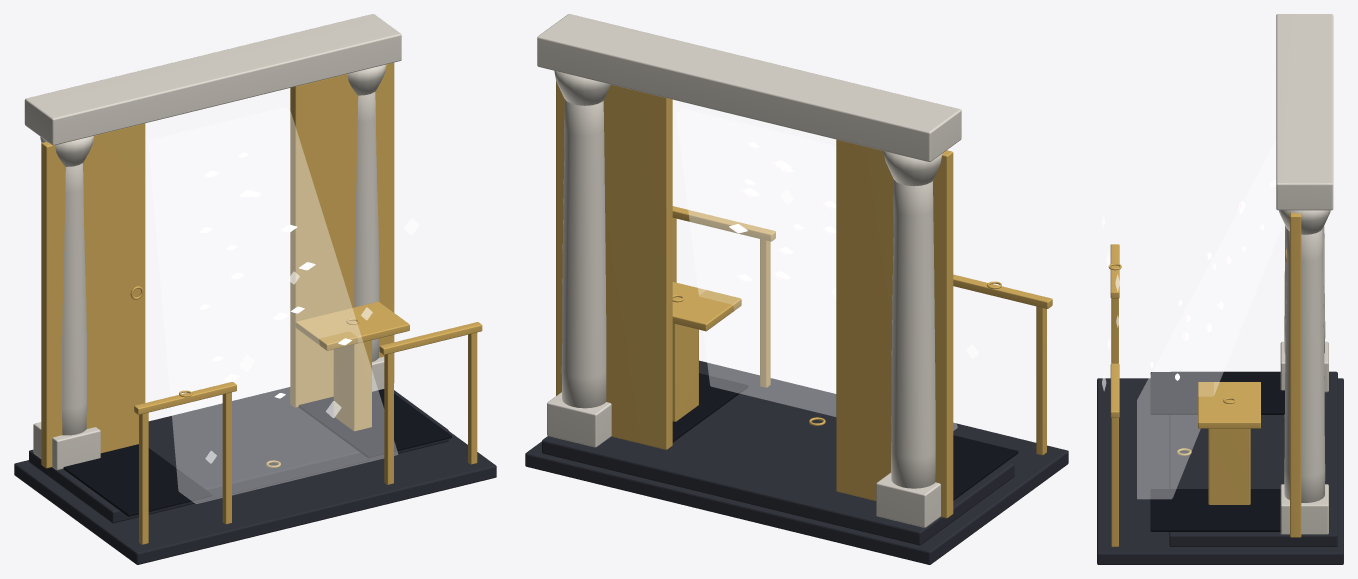
The model's file is webtoon-bokeh-rofan-petal-cascade-f28-v22.glb.
The picture shows the model from 3 angles, left to right: view 1: azimuth 30°, elevation 25°; view 2: azimuth 150°, elevation 25°; view 3: azimuth 270°, elevation 25°; orthographic projection. The views are drawn at different scales.
Visible parts, largest first — view 1: Volumetric_V22Beat2_F28_GodRaySlit, Articulated_V22Beat2_F28_DoorsAndIkRig, V22Beat2_F28_PortalColonnade, V22Beat2_F28_DatumDeck, ShadowDrift_V22Beat2_F28_UmbraMask, Atmospheric_V22Beat2_F28_MidMotes, Atmospheric_V22Beat2_F28_FgBokehLayer; view 2: Articulated_V22Beat2_F28_DoorsAndIkRig, V22Beat2_F28_PortalColonnade, Volumetric_V22Beat2_F28_GodRaySlit, V22Beat2_F28_DatumDeck, ShadowDrift_V22Beat2_F28_UmbraMask, Atmospheric_V22Beat2_F28_MidMotes; view 3: V22Beat2_F28_DatumDeck, V22Beat2_F28_PortalColonnade, Volumetric_V22Beat2_F28_GodRaySlit, Articulated_V22Beat2_F28_DoorsAndIkRig, ShadowDrift_V22Beat2_F28_UmbraMask, Atmospheric_V22Beat2_F28_MidMotes.
Part boxes in pixels (x1,y1,x2,y2): Volumetric_V22Beat2_F28_GodRaySlit: (148, 107, 397, 503); Articulated_V22Beat2_F28_DoorsAndIkRig: (41, 62, 482, 544); V22Beat2_F28_PortalColonnade: (24, 14, 401, 470); V22Beat2_F28_DatumDeck: (14, 387, 496, 564); ShadowDrift_V22Beat2_F28_UmbraMask: (63, 389, 451, 516); Atmospheric_V22Beat2_F28_MidMotes: (199, 152, 351, 398); Atmospheric_V22Beat2_F28_FgBokehLayer: (205, 218, 419, 463); Articulated_V22Beat2_F28_DoorsAndIkRig: (556, 81, 1052, 518); V22Beat2_F28_PortalColonnade: (537, 14, 961, 527); Volumetric_V22Beat2_F28_GodRaySlit: (676, 109, 957, 430); V22Beat2_F28_DatumDeck: (525, 360, 1068, 564); ShadowDrift_V22Beat2_F28_UmbraMask: (672, 373, 1018, 500); Atmospheric_V22Beat2_F28_MidMotes: (729, 142, 836, 281); V22Beat2_F28_DatumDeck: (1097, 371, 1343, 564); V22Beat2_F28_PortalColonnade: (1276, 14, 1333, 534); Volumetric_V22Beat2_F28_GodRaySlit: (1137, 141, 1283, 498); Articulated_V22Beat2_F28_DoorsAndIkRig: (1108, 212, 1301, 546); ShadowDrift_V22Beat2_F28_UmbraMask: (1150, 372, 1284, 531); Atmospheric_V22Beat2_F28_MidMotes: (1150, 179, 1276, 380).
Bounding box in the file's own units: 2.76 × 2.78 × 1.64.
